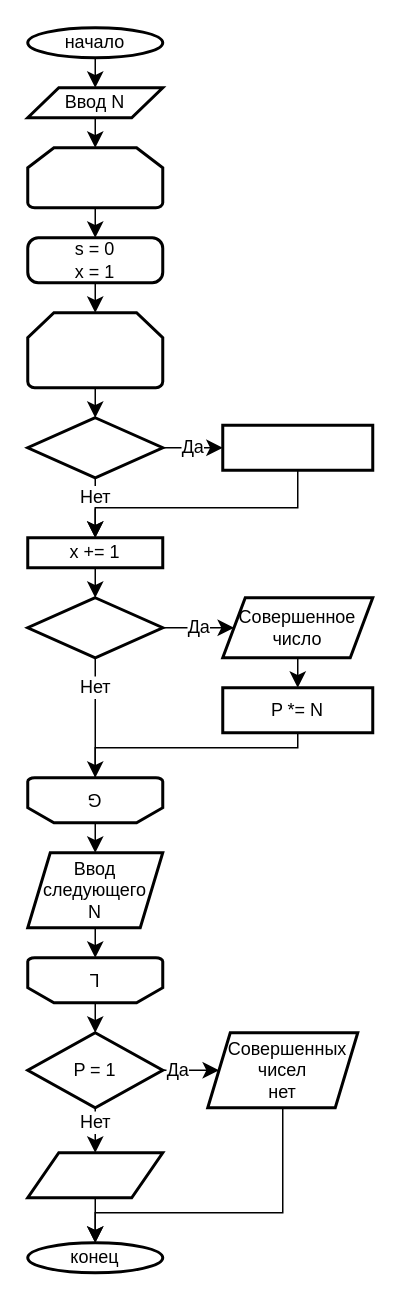
Some shapes in this 399 by 1299 pixel diagram are drawn without their labels. The centre of each missing label's shape, as x and y in pixels:
"G x > N // 2" belongs at (x=95, y=349).
"L N<=0" belongs at (x=95, y=177).
"N % x=0" belongs at (x=95, y=447).
"s += x" belongs at (x=297, y=447).
"s = N" belongs at (x=95, y=627).
"Вывод Р" belongs at (x=95, y=1174).
